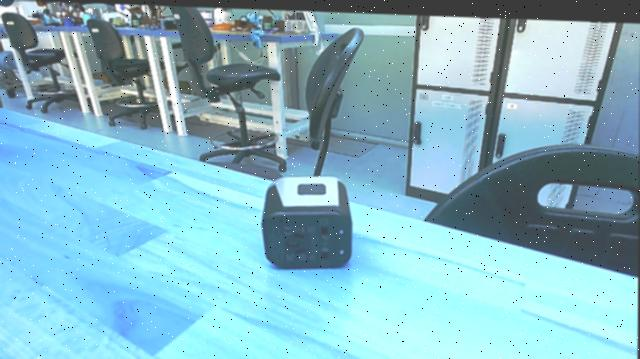adapter: (255, 173, 357, 269)
